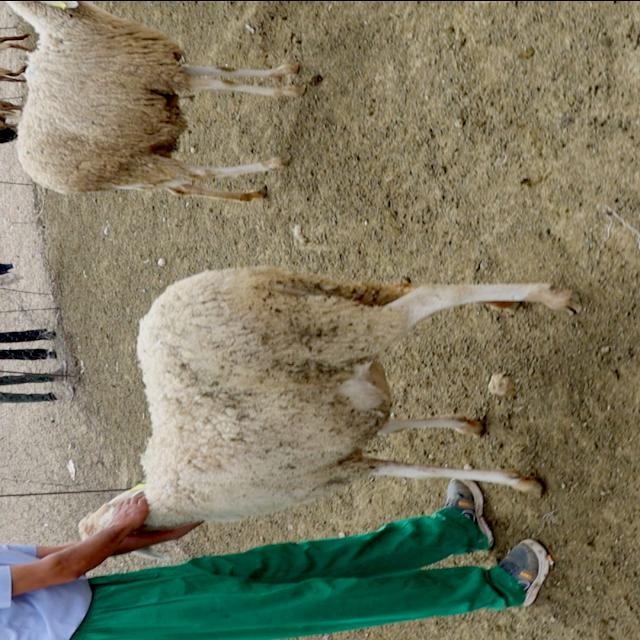Score_5: (137, 265, 578, 530)
